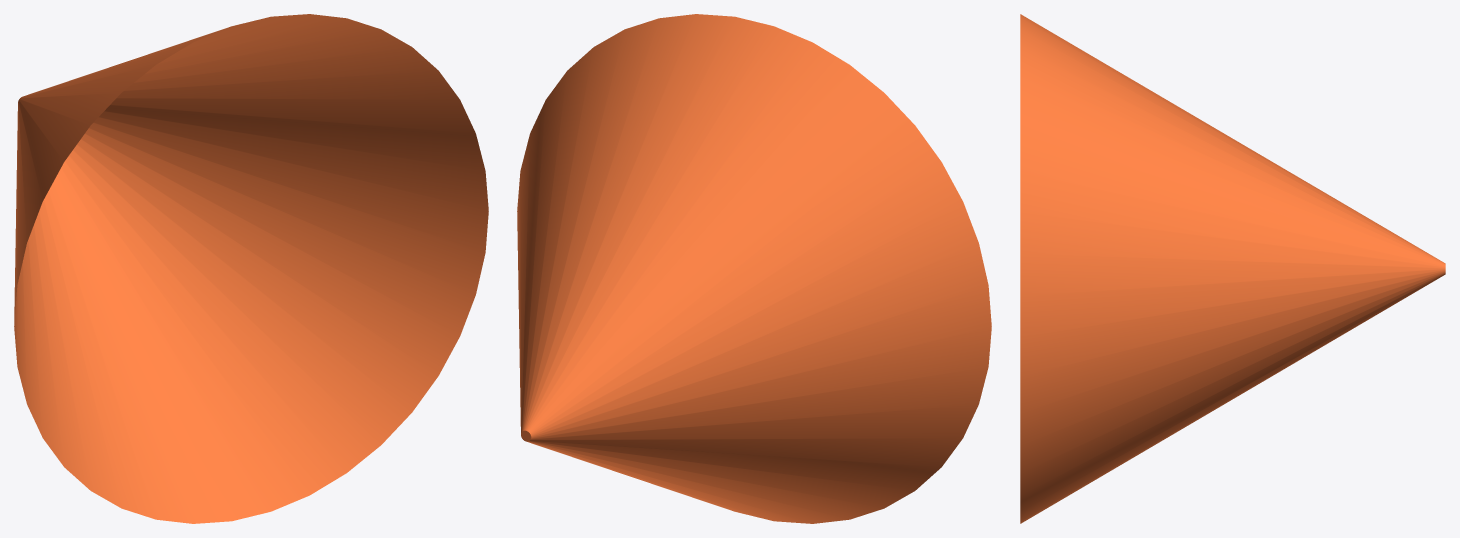
The model's file is ant.obj.
3 views of the same model, side by side, from view 1: azimuth 30°, elevation 25°; view 2: azimuth 150°, elevation 25°; view 3: azimuth 270°, elevation 25° (orthographic). The views are drawn at different scales.
Size of the model in its own units: 12 by 11.96 by 10.
